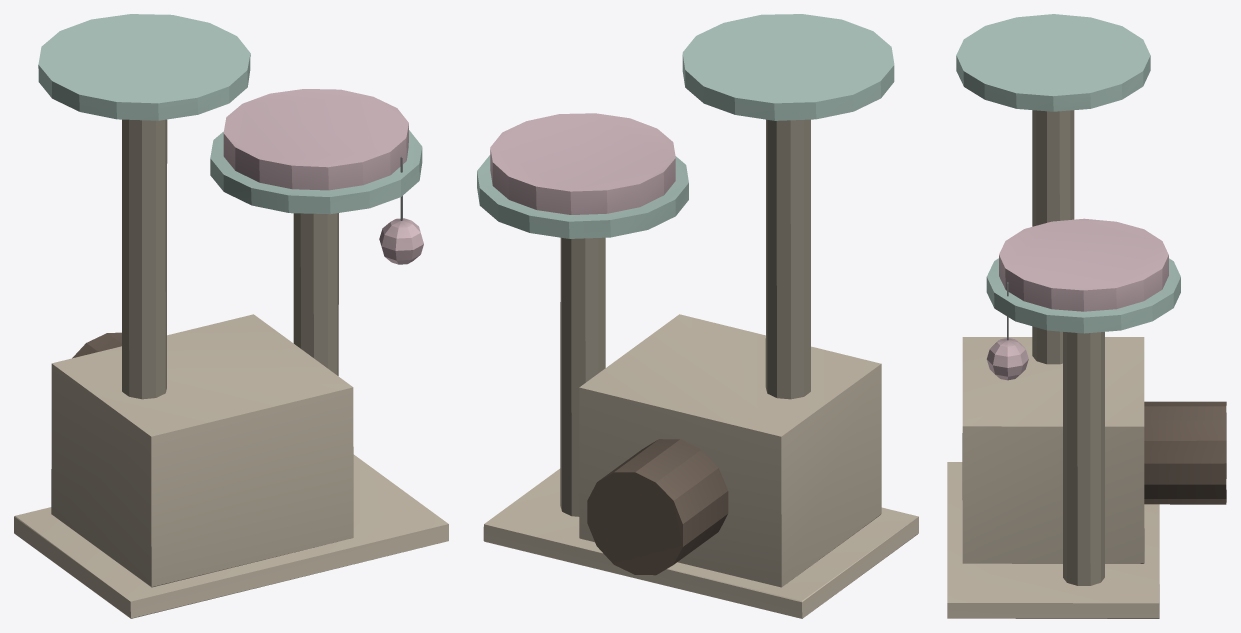
File: petshop_cat_tower__beige_low.glb
3 views of the same model, side by side, from view 1: azimuth 30°, elevation 25°; view 2: azimuth 150°, elevation 25°; view 3: azimuth 270°, elevation 25° (orthographic). The views are drawn at different scales.
Bounding box in the file's own units: 1.29 × 1.65 × 0.9184.
